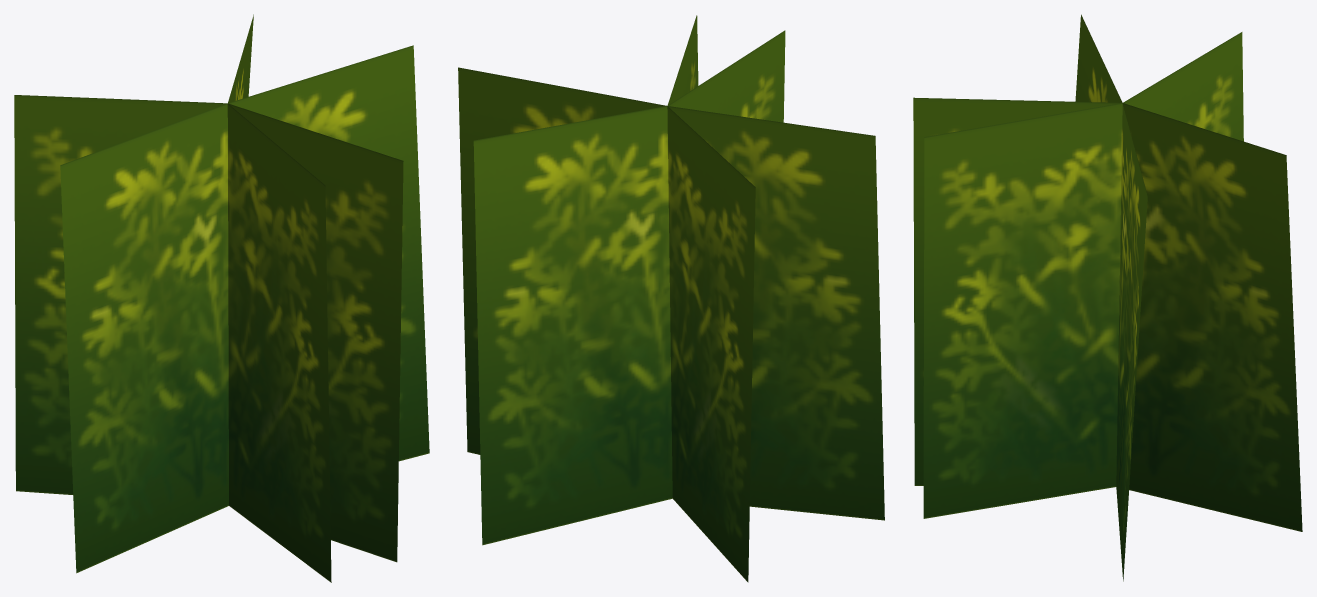
Rendered from WhiteFlowers.FBX.
3 renders of one model, left to right at view 1: azimuth 30°, elevation 25°; view 2: azimuth 150°, elevation 25°; view 3: azimuth 270°, elevation 25°, orthographic. The views are drawn at different scales.
Parts seen in each view (by area): view 1: polySurface123; view 2: polySurface123; view 3: polySurface123.
Boxes of the visible parts, x1,y1,x2,y2 form: polySurface123: (14,14,429,582); polySurface123: (458,15,884,582); polySurface123: (913,14,1302,581).
Size of the model in its own units: 0.4776 by 0.466 by 0.4269.
